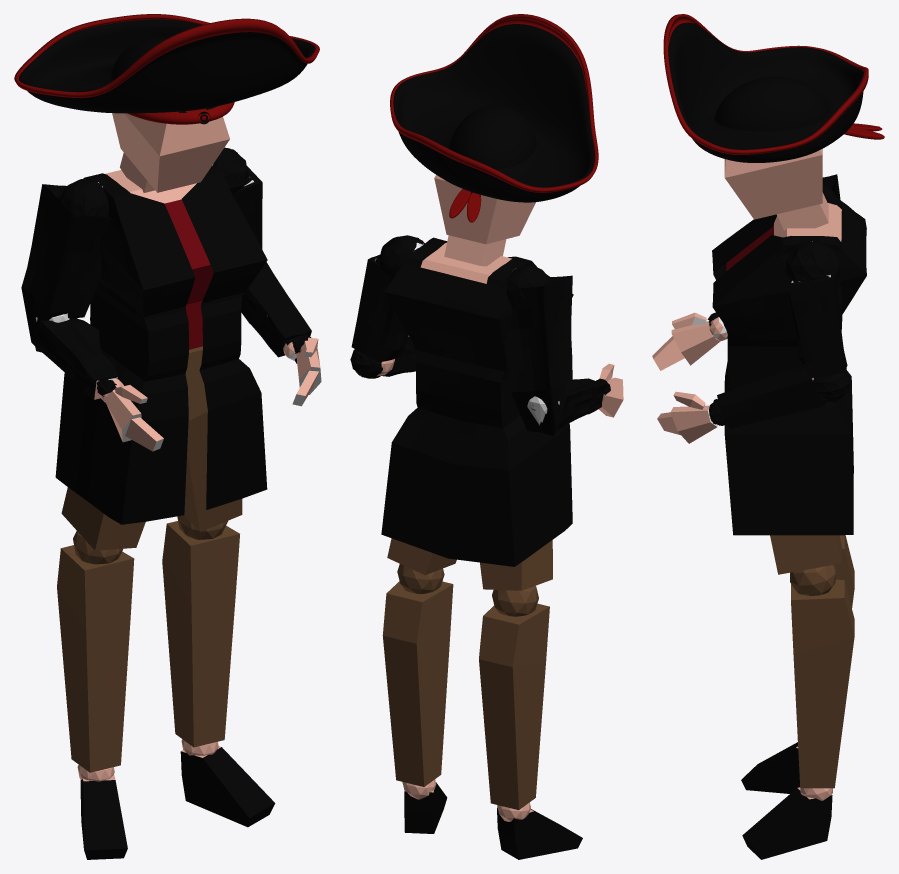
File: WHEEL POSE.fbx
The picture shows the model from 3 angles, left to right: view 1: azimuth 30°, elevation 25°; view 2: azimuth 150°, elevation 25°; view 3: azimuth 270°, elevation 25°; orthographic projection. The views are drawn at different scales.
Parts seen in each view (by area): view 1: Cube.007, Cube.006; view 2: Cube.007, Cube.006; view 3: Cube.007, Cube.006.
Boxes of the visible parts, bbox=[...] form: Cube.007: bbox=[21, 113, 321, 859]; Cube.006: bbox=[14, 14, 319, 124]; Cube.007: bbox=[350, 175, 623, 859]; Cube.006: bbox=[390, 14, 598, 222]; Cube.007: bbox=[652, 149, 866, 859]; Cube.006: bbox=[663, 14, 884, 162].
Size of the model in its own units: 5.6 by 17.99 by 4.78.
